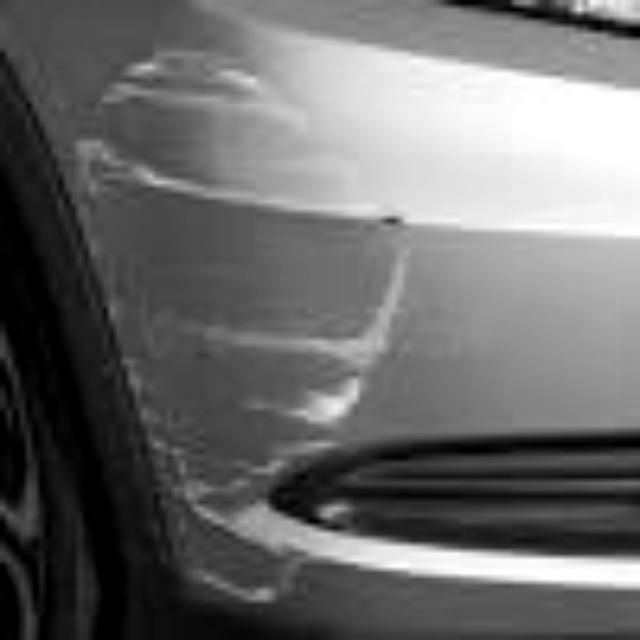front-bumper-dent: (1, 20, 634, 640)
